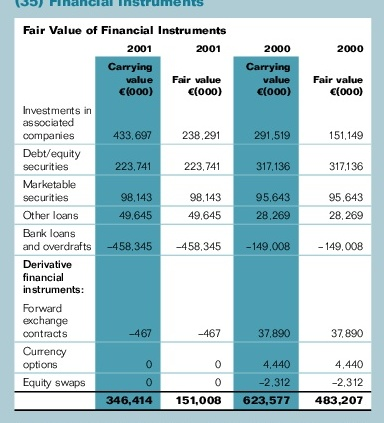table: (0, 0, 384, 423)
